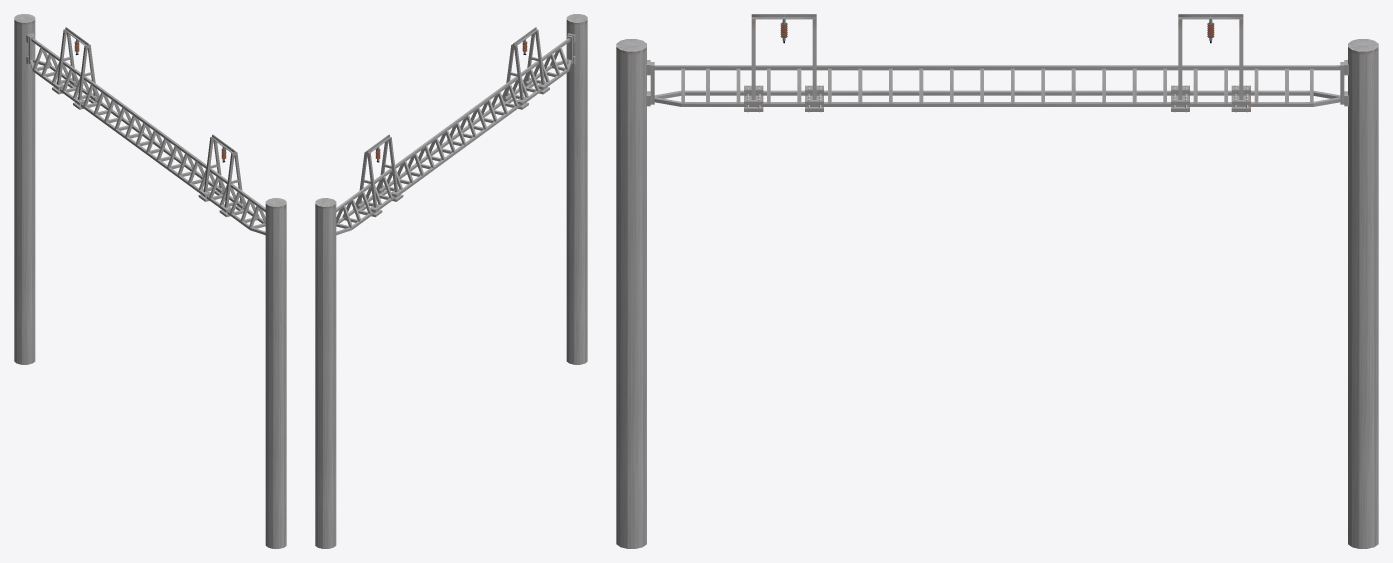
File: gantry_13.obj
3 renders of one model, left to right at view 1: azimuth 30°, elevation 25°; view 2: azimuth 150°, elevation 25°; view 3: azimuth 270°, elevation 25°, orthographic. The views are drawn at different scales.
Visible parts, largest first — view 1: cylinder, cube, cuboid; view 2: cylinder, cube, cuboid; view 3: cylinder, cube, cuboid.
Boxes of the visible parts, x1,y1,x2,y2 form: cylinder: (14, 14, 286, 548); cube: (26, 33, 265, 235); cuboid: (52, 27, 244, 217); cylinder: (315, 14, 587, 548); cube: (336, 33, 575, 235); cuboid: (357, 27, 549, 217); cylinder: (616, 15, 1378, 548); cube: (646, 60, 1348, 106); cuboid: (744, 14, 1250, 111).
Bounding box in the file's own units: 0.625 × 9.56 × 12.5.
1 material, 1 textured.
